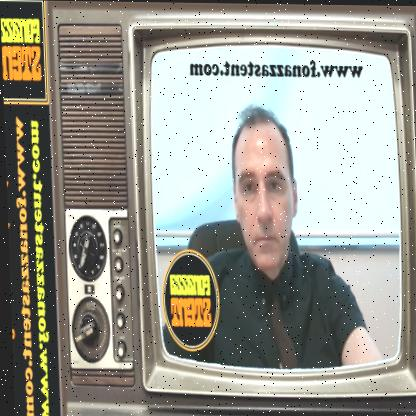streamer: (152, 101, 383, 370)
